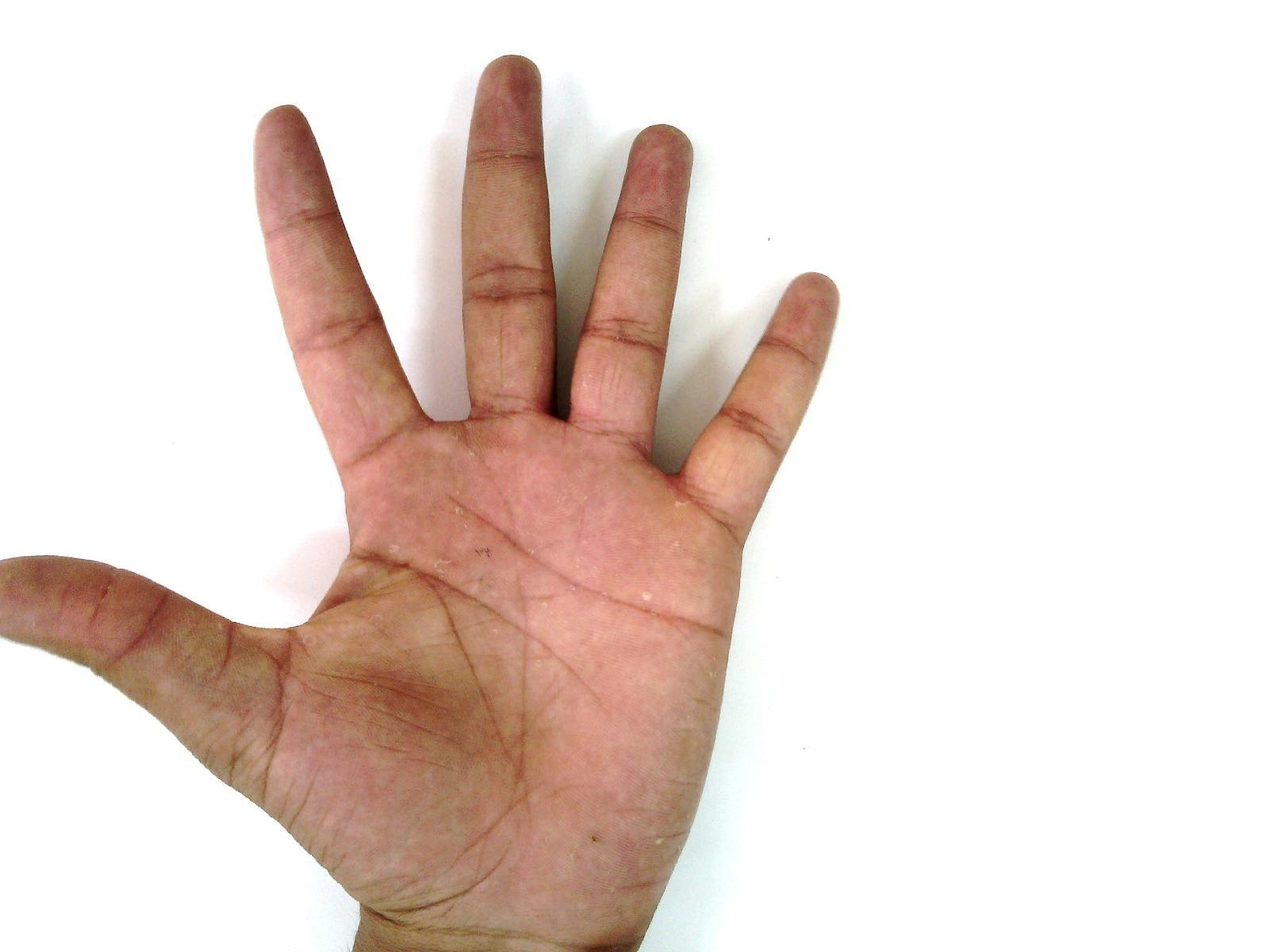open_palm: (4, 53, 844, 950)
